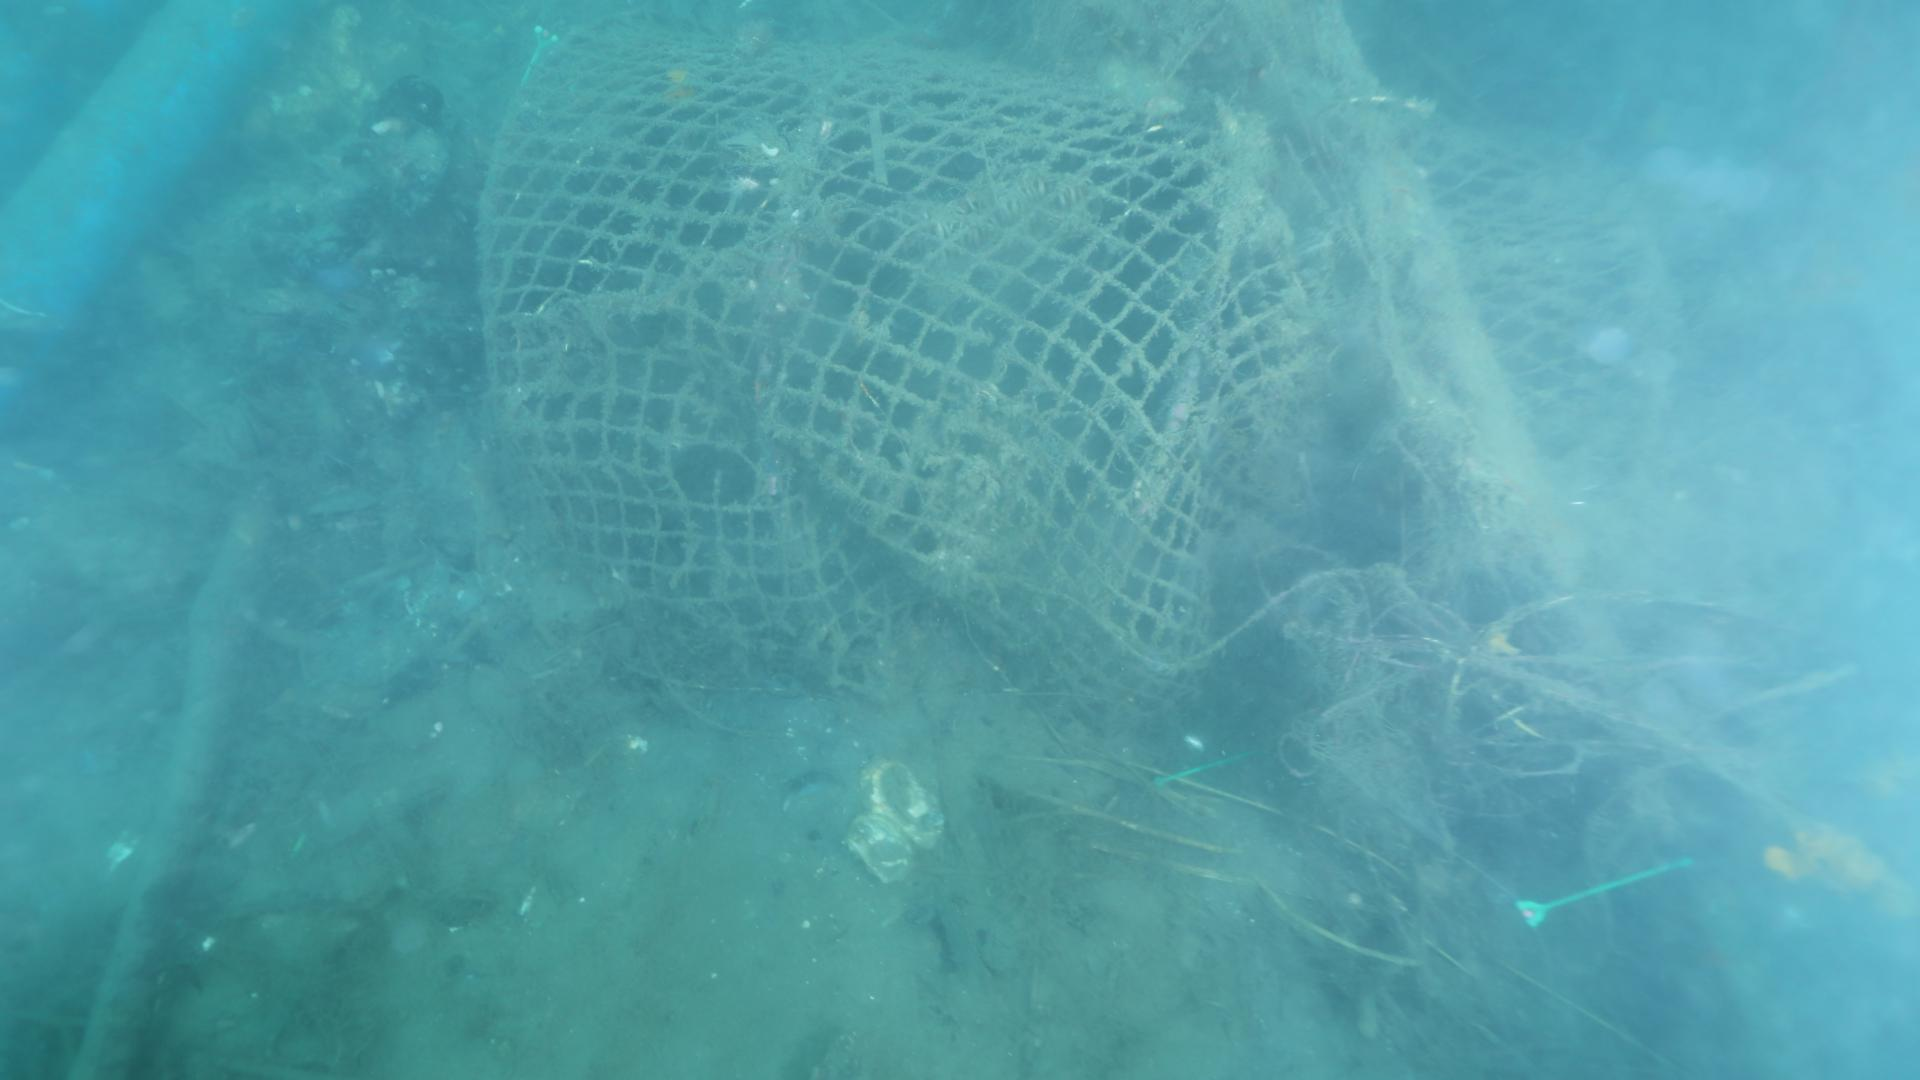spring fish trap: (472, 9, 1650, 735)
